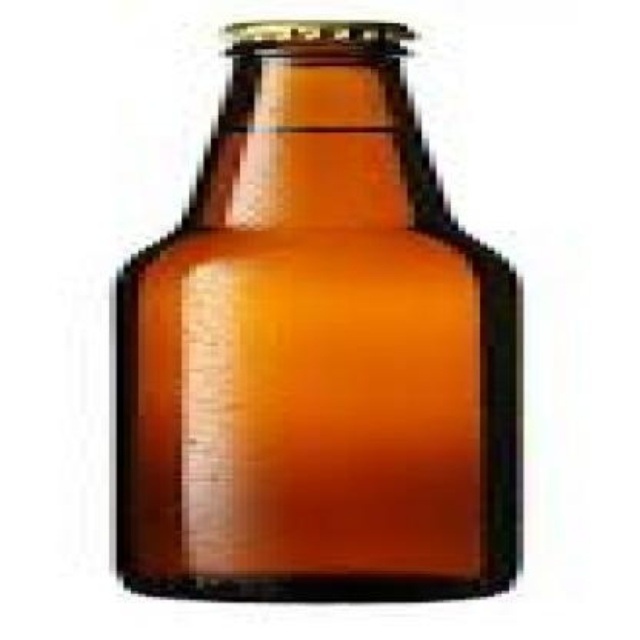trash: (117, 22, 520, 598)
